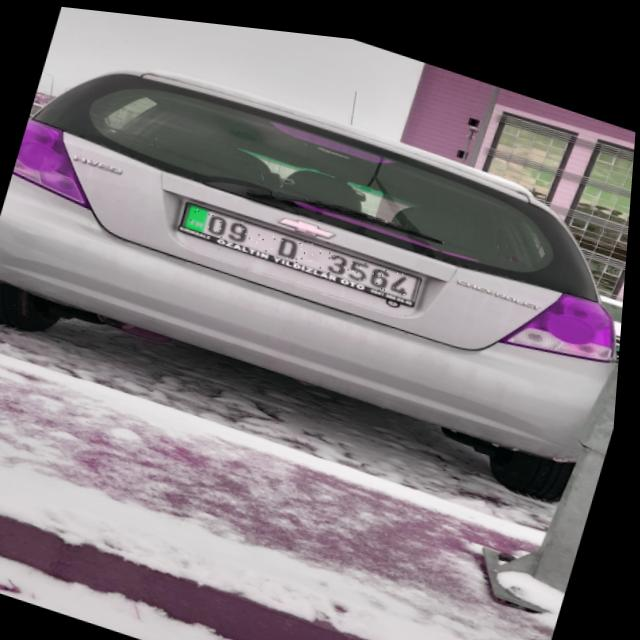license_plate: (180, 197, 427, 292)
